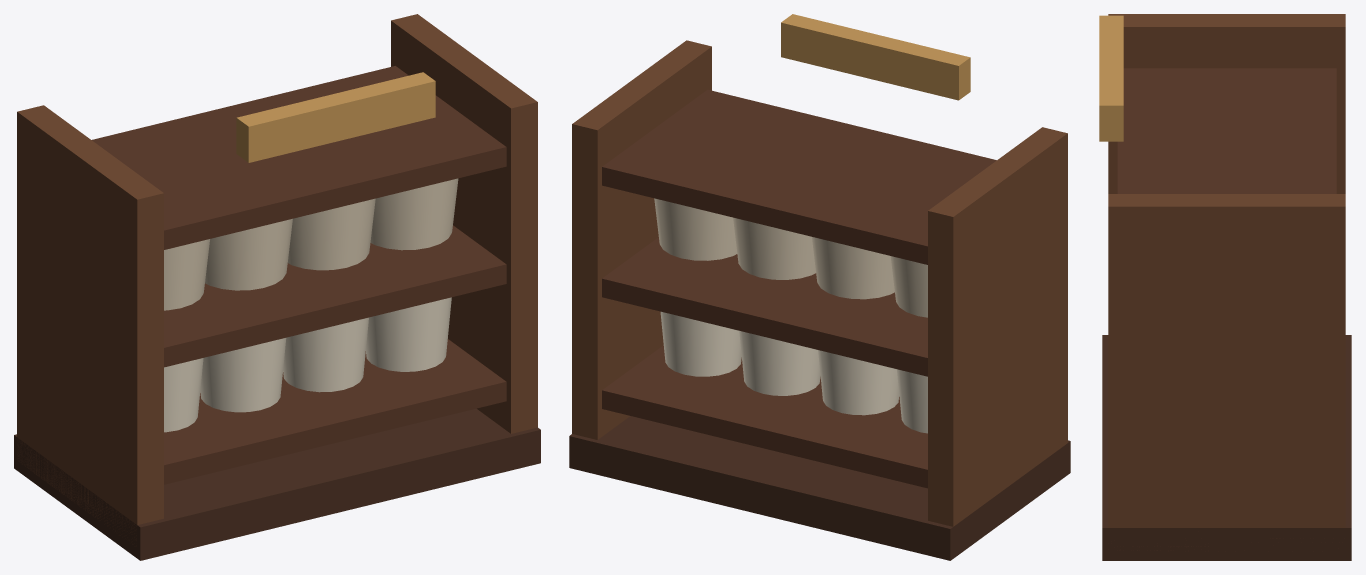
Rendered from cup-shelf.glb.
3 views of the same model, side by side, from view 1: azimuth 30°, elevation 25°; view 2: azimuth 150°, elevation 25°; view 3: azimuth 270°, elevation 25° (orthographic). The views are drawn at different scales.
Visible parts, largest first — view 1: ShelfBoard (×3), LeftFrame, ShelfBase, RightFrame, PorcelainCup (×4), StackedCup (×4), BrassLabel; view 2: ShelfBoard (×3), LeftFrame, ShelfBase, RightFrame, PorcelainCup (×4), StackedCup (×4), BrassLabel; view 3: RightFrame, ShelfBoard, LeftFrame, ShelfBase, BrassLabel.
Part boxes in pixels (x1,y1,x2,y2): ShelfBoard (×3): [92, 66, 506, 484]; LeftFrame: [17, 105, 163, 546]; ShelfBase: [14, 408, 540, 560]; RightFrame: [391, 14, 537, 433]; PorcelainCup (×4): [164, 297, 451, 432]; StackedCup (×4): [164, 178, 458, 310]; BrassLabel: [236, 72, 435, 162]; ShelfBoard (×3): [602, 89, 996, 488]; LeftFrame: [928, 127, 1067, 526]; ShelfBase: [569, 416, 1070, 560]; RightFrame: [572, 40, 711, 439]; PorcelainCup (×4): [660, 311, 927, 433]; StackedCup (×4): [654, 198, 927, 317]; BrassLabel: [781, 14, 970, 100]; RightFrame: [1108, 194, 1345, 550]; ShelfBoard: [1117, 68, 1336, 193]; LeftFrame: [1108, 14, 1345, 193]; ShelfBase: [1102, 335, 1351, 560]; BrassLabel: [1099, 15, 1123, 141].
Bounding box in the file's own units: 1.5 × 1.46 × 0.83.
